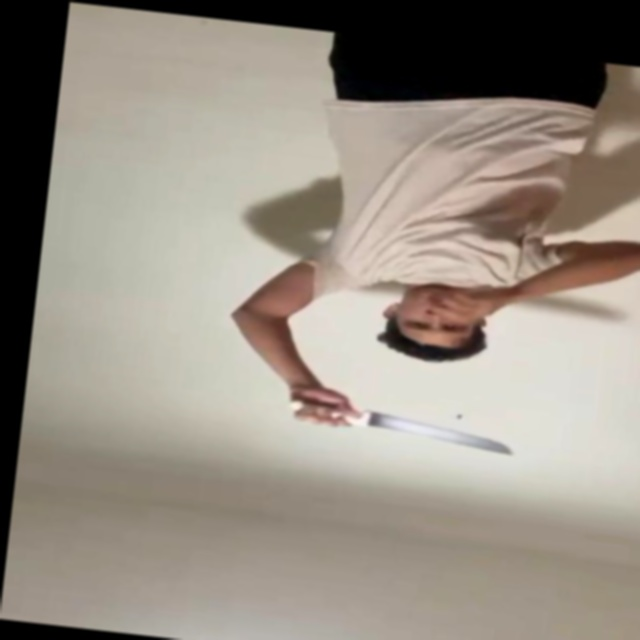Sharp-Object: (368, 413, 522, 459)
